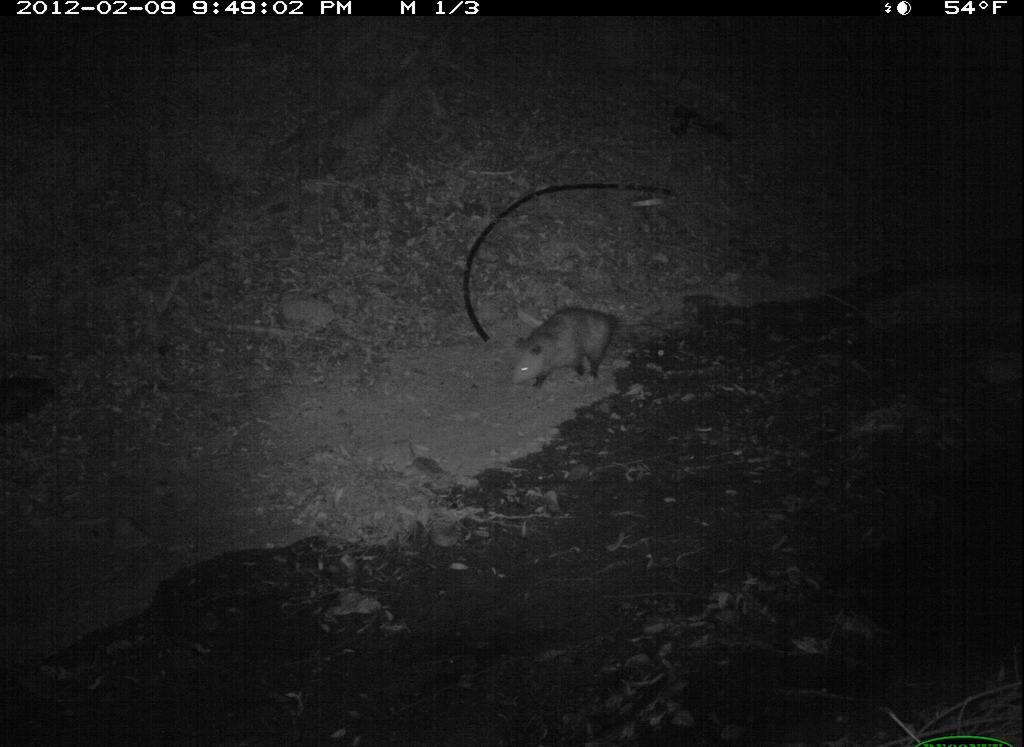opossum: (506, 299, 661, 399)
